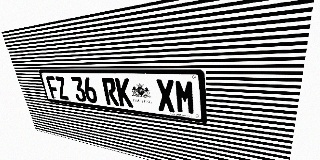3: (71, 77, 87, 102)
6: (82, 77, 98, 104)
F: (45, 76, 60, 99)
K: (115, 78, 133, 108)
M: (174, 79, 196, 115)
R: (101, 78, 119, 106)
X: (155, 79, 176, 113)
Z: (54, 76, 70, 100)
